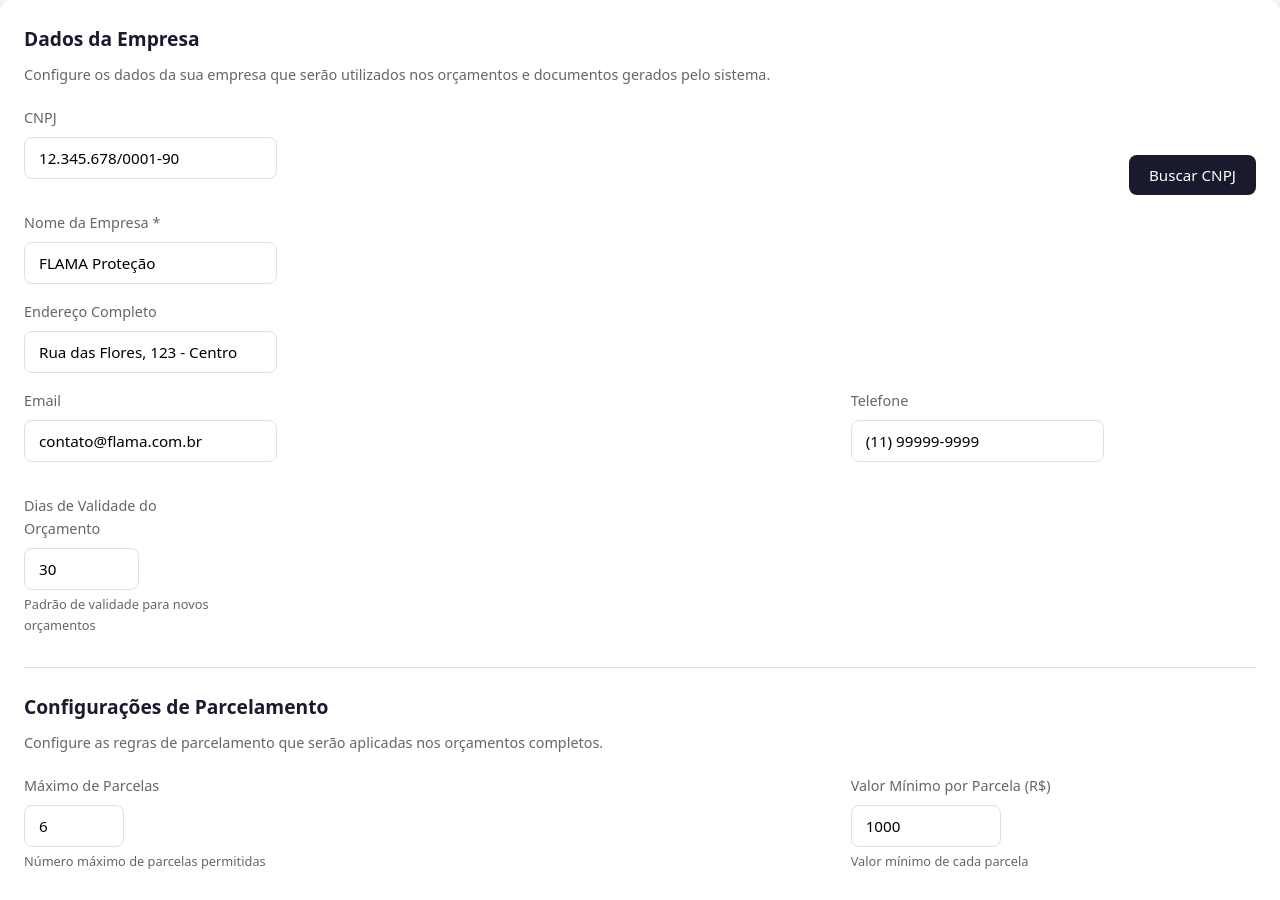
Test: EmpresaTab › Interações com formulário › deve formatar telefone fixo ao digitar
The width and height of the screenshot is (1280, 900).
Type "1133334444" into the field showing "(11) 99999-9999" below "Telefone" at {"x": 977, "y": 441}, box [851, 420, 1104, 462]
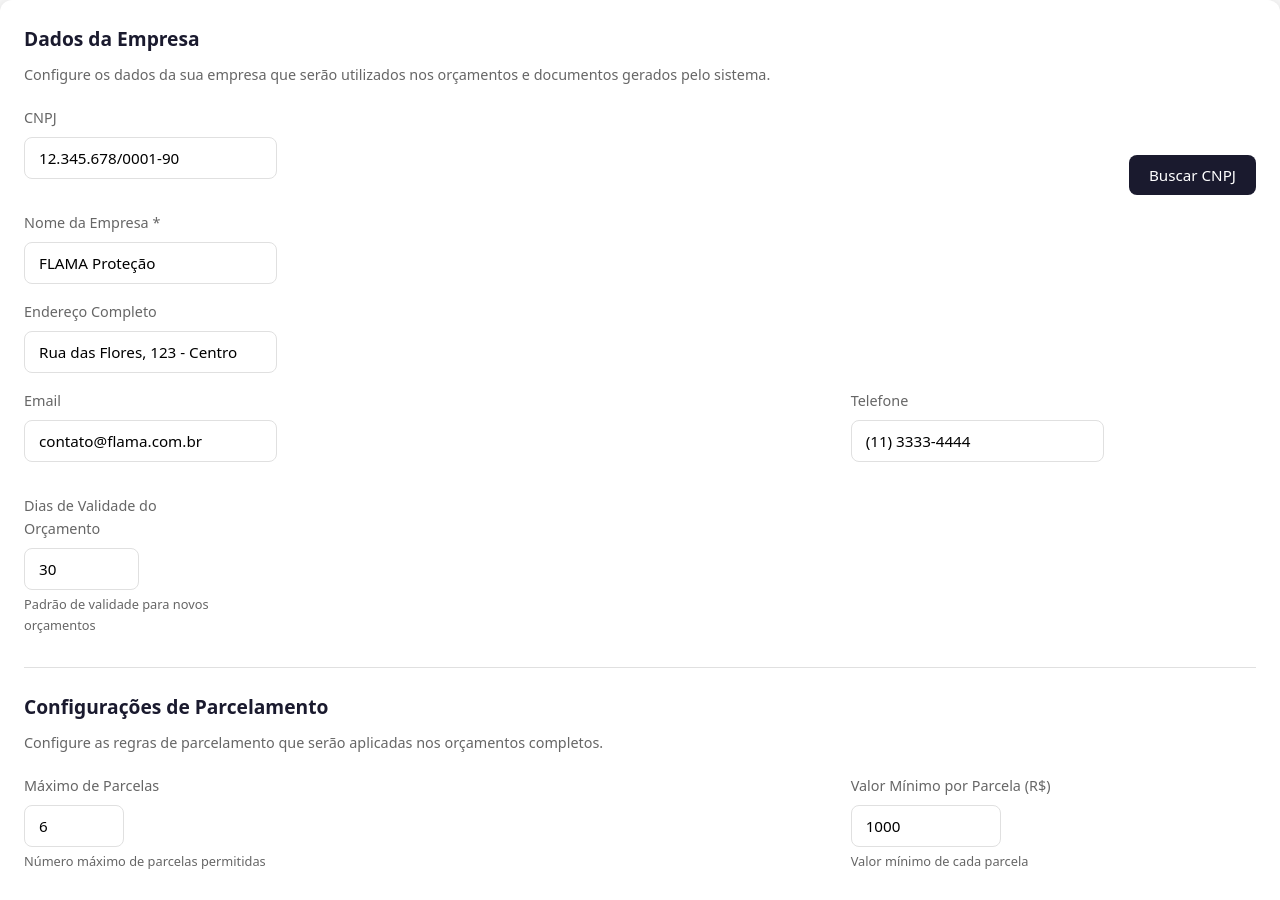
Expected: the field showing "(11) 3333-4444" below "Telefone" is shown, [851, 420, 1104, 462]
